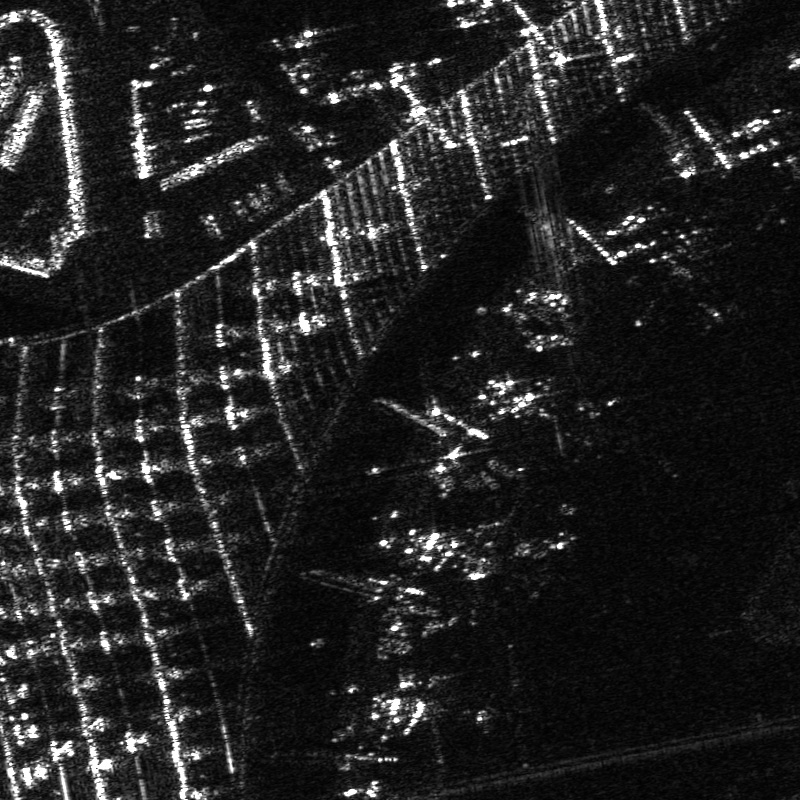Boeing787: (636, 238, 734, 325), (536, 383, 622, 469)
other: (418, 670, 494, 746), (755, 144, 799, 231)
